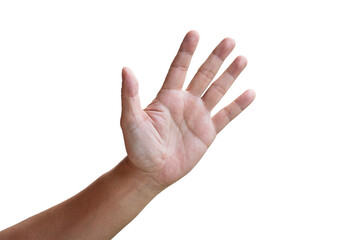Hello: (113, 24, 260, 189)
